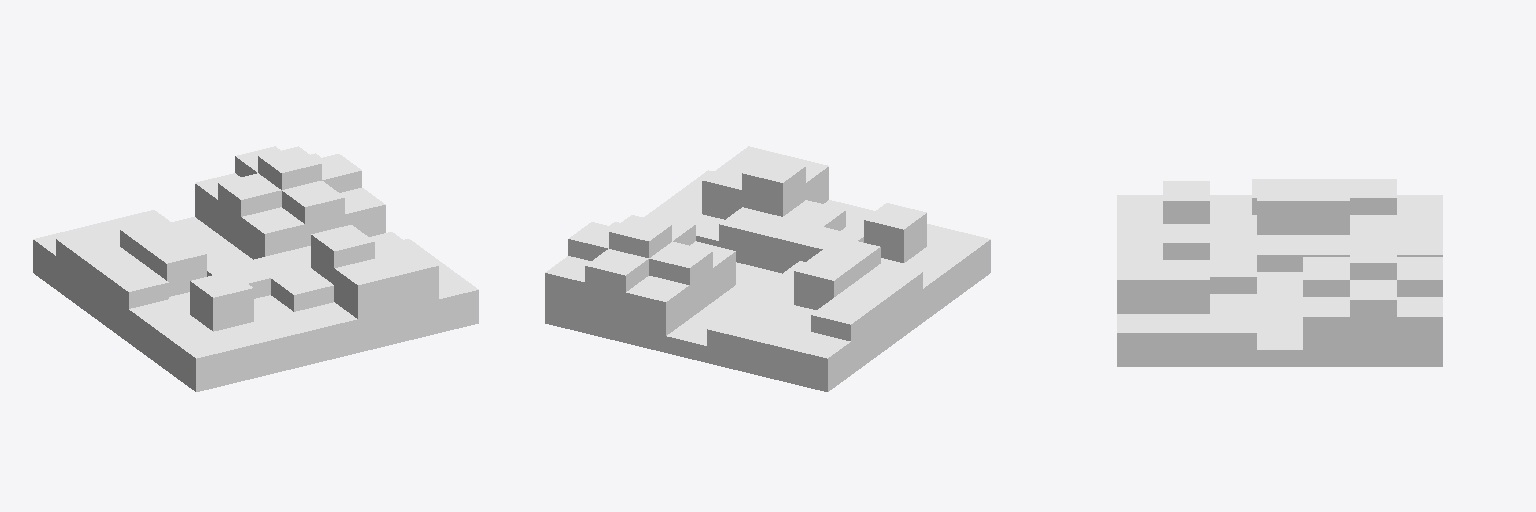
The model's file is CornerTwo.obj.
The picture shows the model from 3 angles: view 1: azimuth 30°, elevation 25°; view 2: azimuth 150°, elevation 25°; view 3: azimuth 270°, elevation 25°; orthographic projection.
Visible parts, largest first — view 1: object 1; view 2: object 1; view 3: object 1.
Part boxes in pixels (bbox=[...]): object 1: bbox=[33, 146, 478, 391]; object 1: bbox=[545, 146, 990, 391]; object 1: bbox=[1117, 179, 1442, 366].
Size of the model in its own units: 7 by 2 by 7.